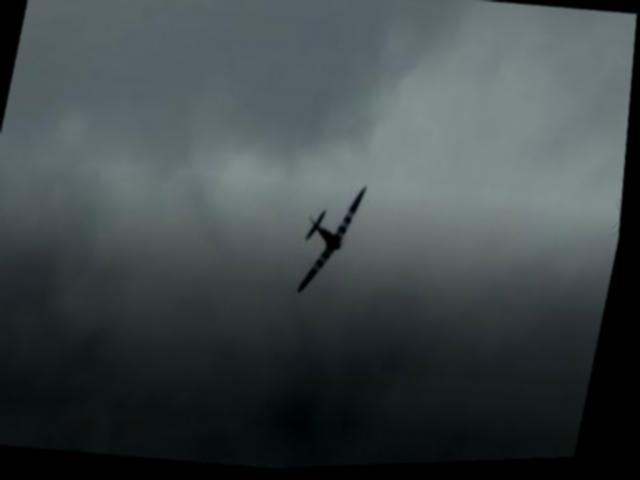uav: (287, 174, 379, 311)
